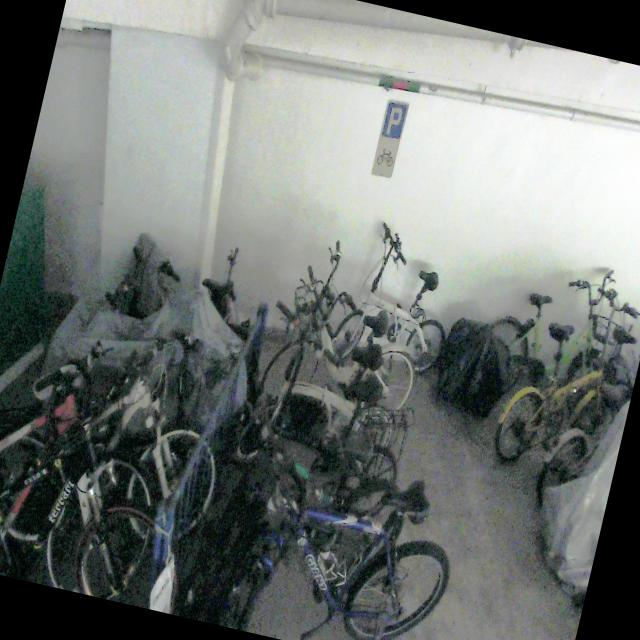bike: (0, 299, 244, 581), (194, 438, 468, 640), (0, 321, 188, 605), (255, 231, 441, 442), (464, 240, 631, 431), (489, 270, 640, 478), (329, 215, 470, 382)
